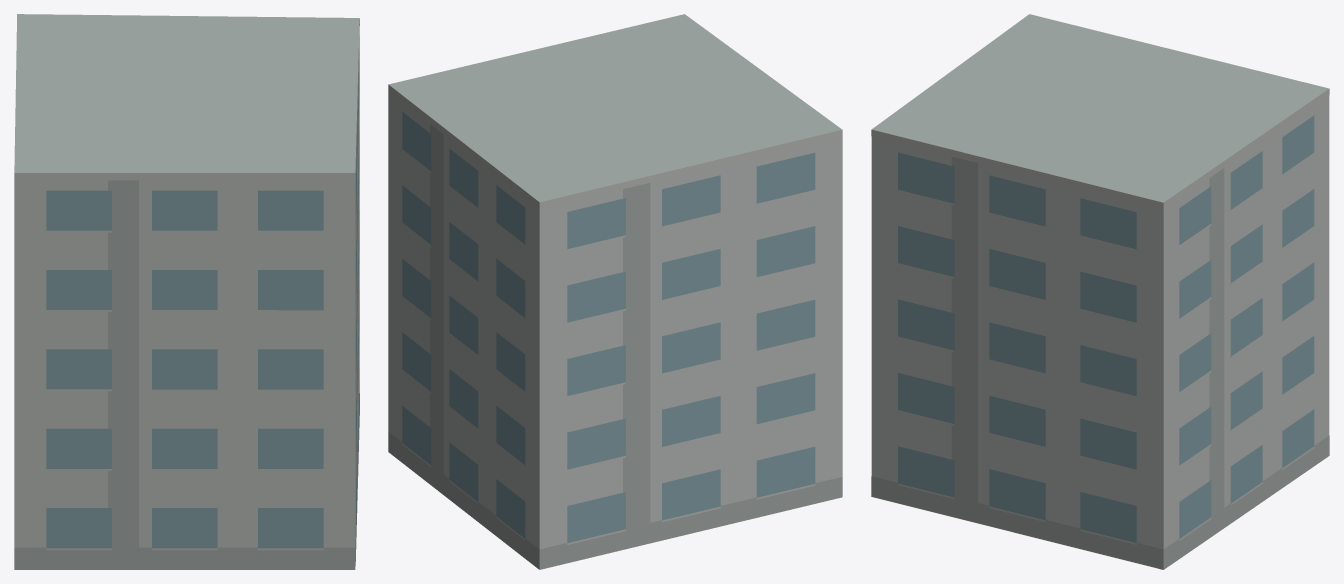
File: survey-upis-32888110.glb
3 views of the same model, side by side, from view 1: azimuth 30°, elevation 25°; view 2: azimuth 150°, elevation 25°; view 3: azimuth 270°, elevation 25° (orthographic). The views are drawn at different scales.
Parts seen in each view (by area): view 1: survey-upis-32888110.tmp; view 2: survey-upis-32888110.tmp; view 3: survey-upis-32888110.tmp.
Boxes of the visible parts, left/top/right/bottom form: survey-upis-32888110.tmp: left=14, top=14, right=359, bottom=569; survey-upis-32888110.tmp: left=388, top=14, right=842, bottom=569; survey-upis-32888110.tmp: left=871, top=14, right=1329, bottom=569.
Bounding box in the file's own units: 14.33 × 13 × 14.7.
